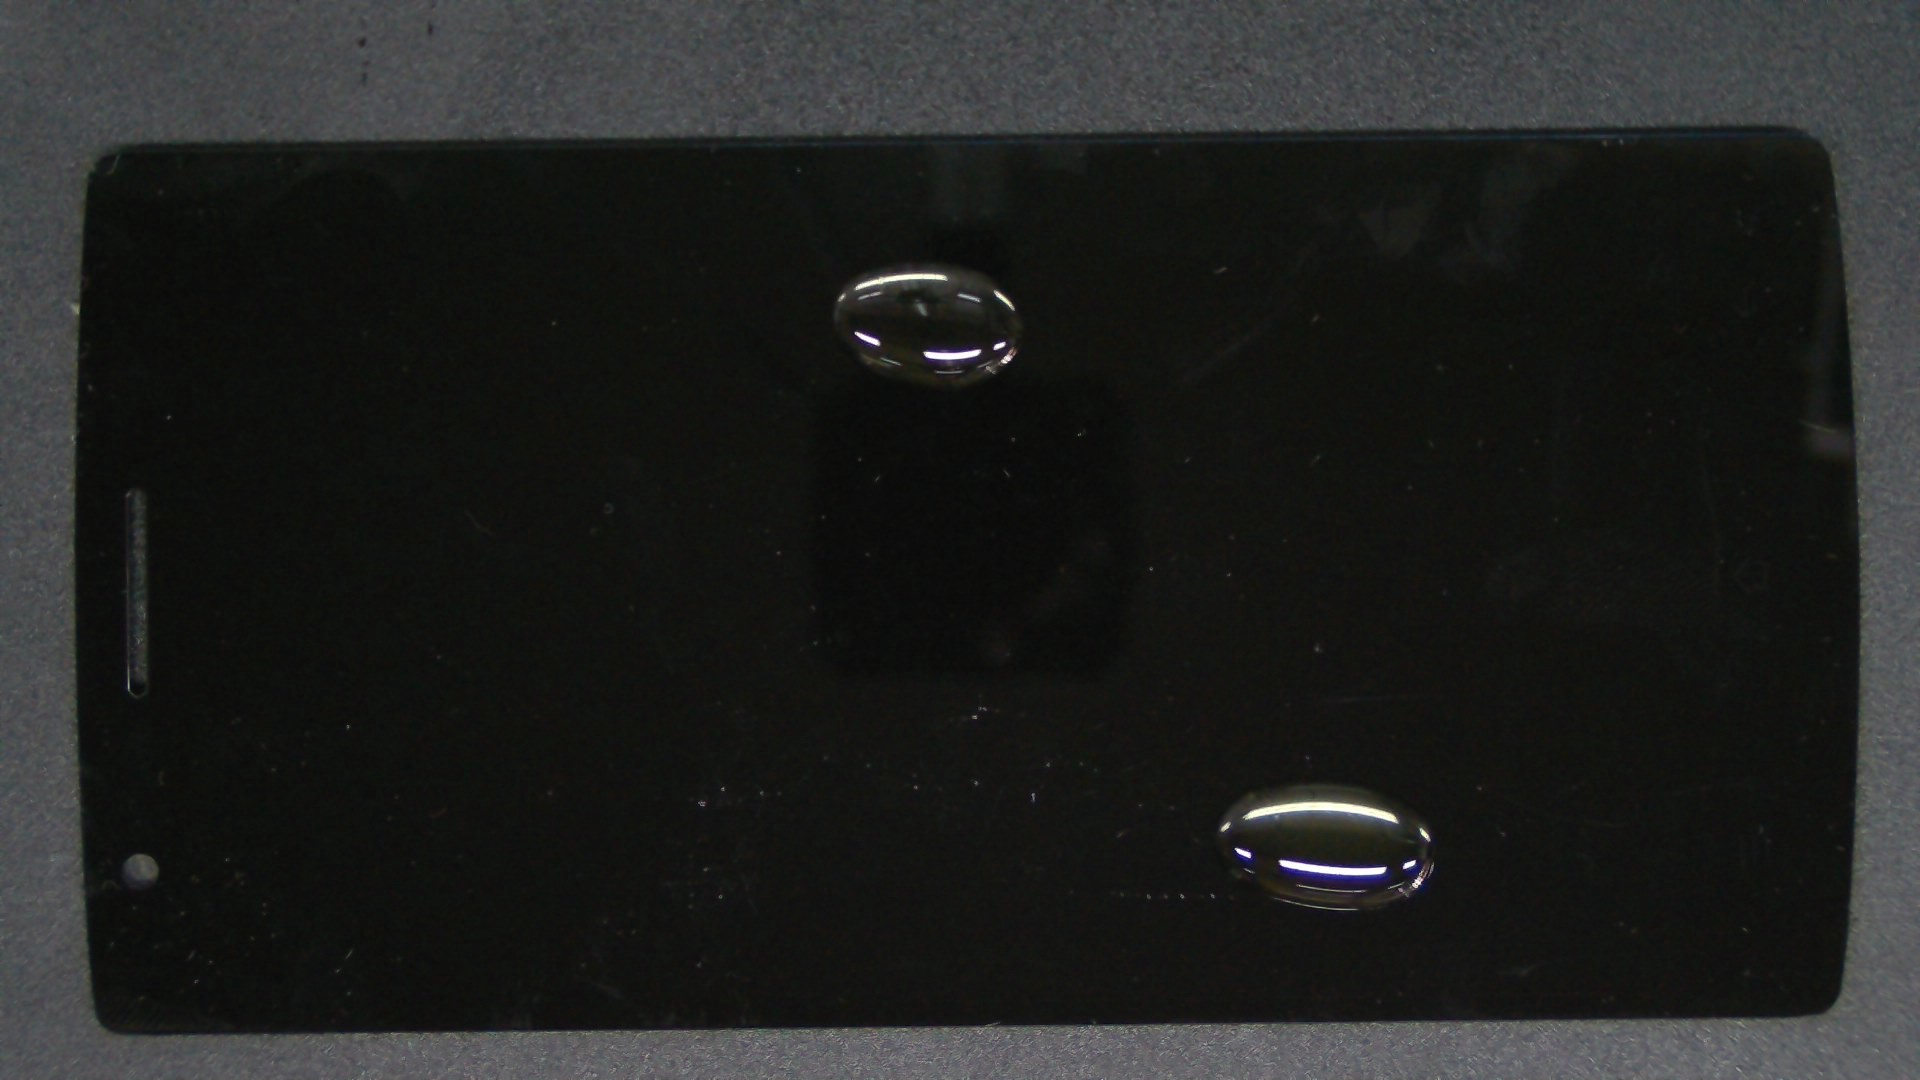oil: (658, 390, 1920, 1080), (458, 131, 1369, 393)
